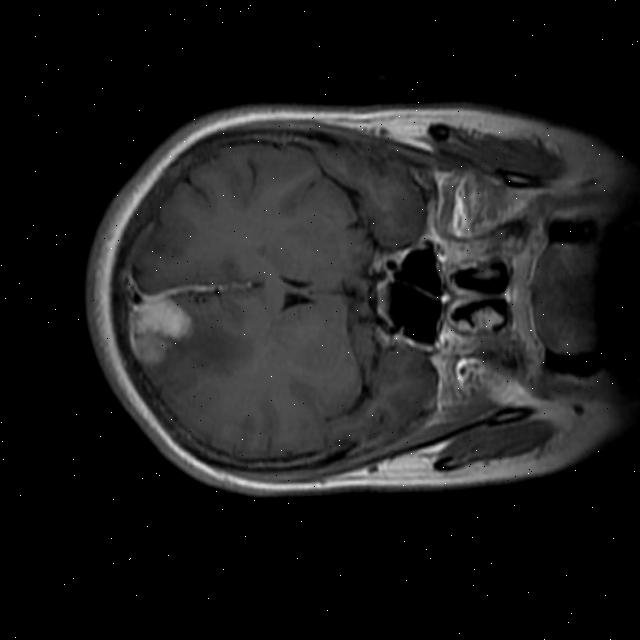Meningioma: (124, 287, 197, 368)
